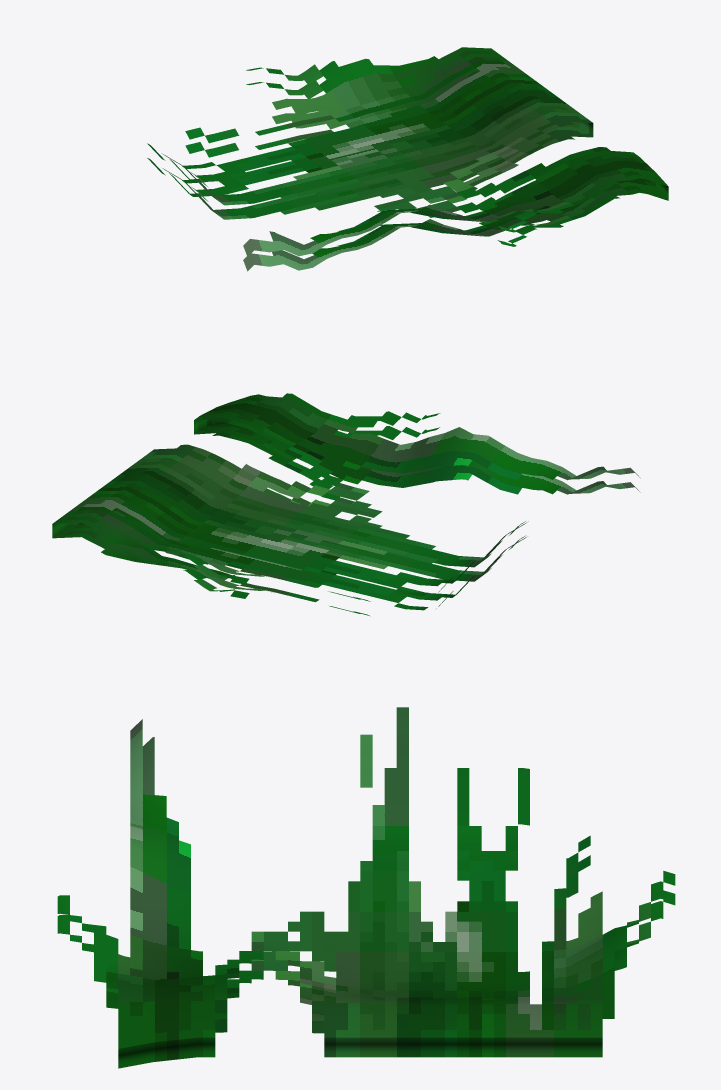
The model's file is groundThick.dae.
The picture shows the model from 3 angles, top to bottom: view 1: azimuth 30°, elevation 25°; view 2: azimuth 150°, elevation 25°; view 3: azimuth 270°, elevation 25°; orthographic projection. The views are drawn at different scales.
Parts seen in each view (by area): view 1: pPlane1; view 2: pPlane1; view 3: pPlane1.
Part boxes in pixels (x1=…): pPlane1: x1=147, y1=47, x2=668, y2=271; pPlane1: x1=52, y1=393, x2=640, y2=616; pPlane1: x1=57, y1=707, x2=675, y2=1068.
Size of the model in its own units: 275 by 49.56 by 275.
